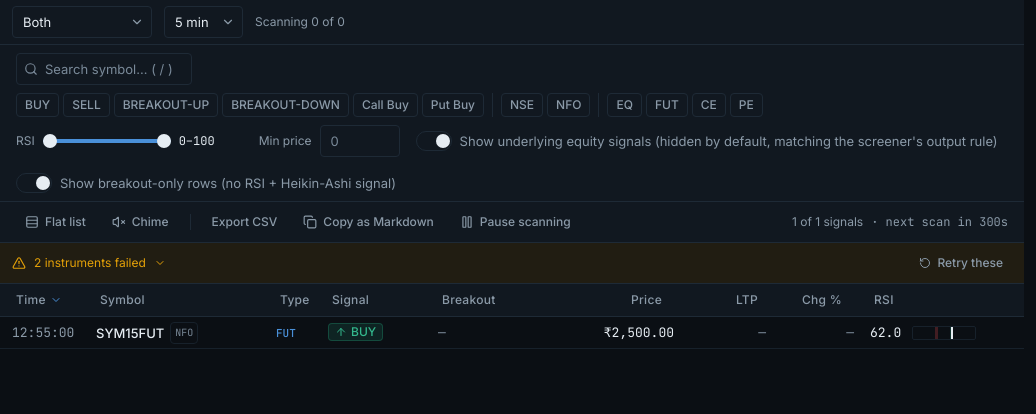
Test case: SignalsTable — errors and empty state › the error strip shows the failed-instrument count and expands to list each one
Expected: the text "simulated failure one" is not shown
Step 1. Click the button "2 instruments failed" → (73, 262), box x1=12 y1=255 x2=902 y2=271
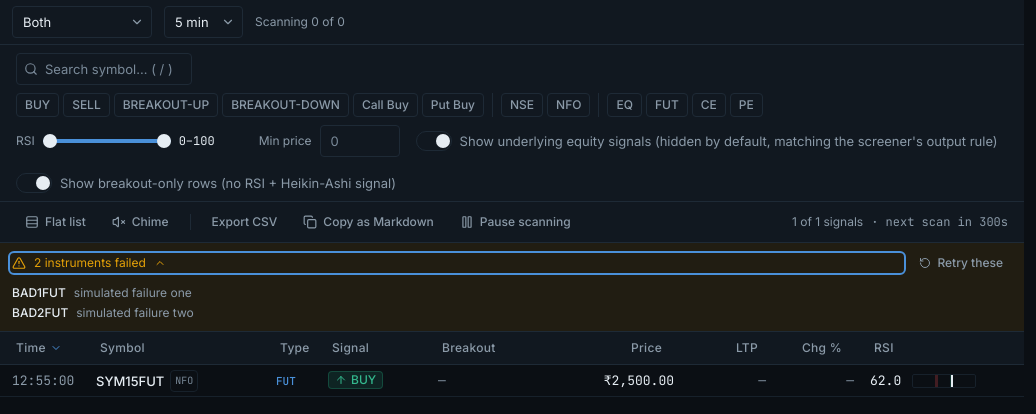
Expected: the text "simulated failure one" is shown, x1=74 y1=285 x2=192 y2=301
Expected: the text "BAD2FUT" is shown, x1=12 y1=305 x2=68 y2=321
